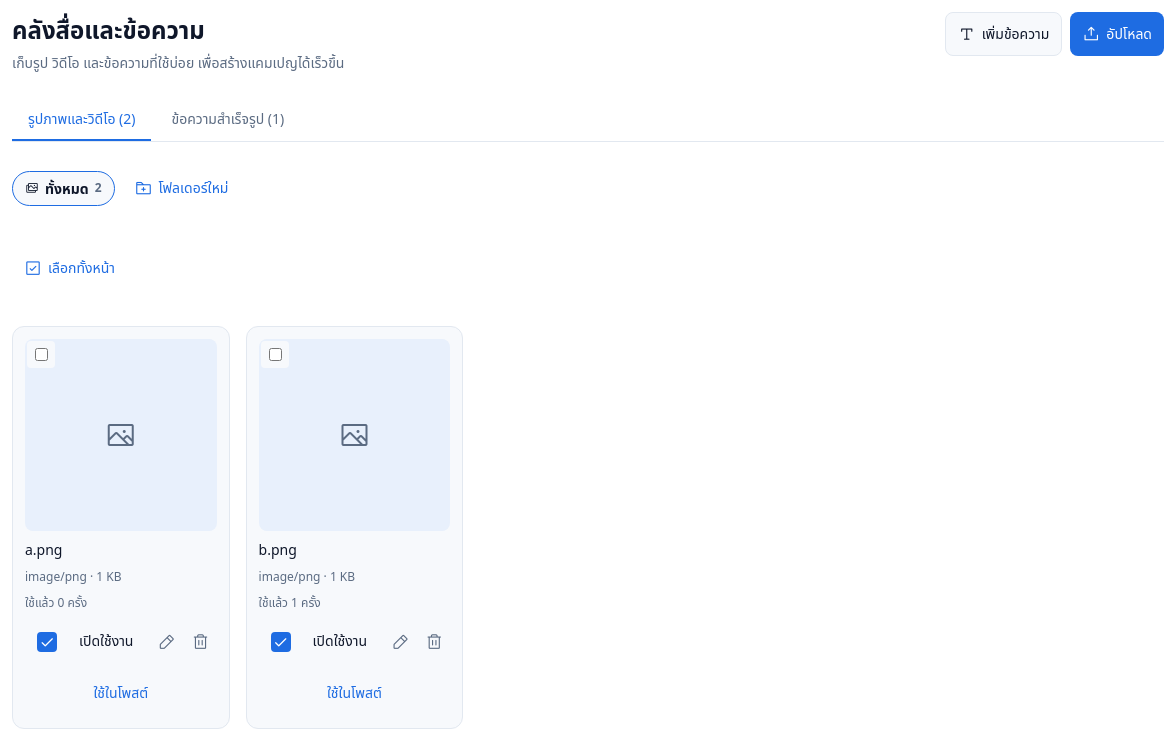
Test: LibraryPageComponent and the draft of a new post › rename, switch on/off and delete › switches a file off: the card dims and "use" is off until it is switched on again
The width and height of the screenshot is (1176, 732).
Step 1. Click the checkbox labelled "เปิดใช้งาน" below "ใช้แล้ว 0 ครั้ง" → (47, 642), box left=25, top=620, right=69, bottom=664
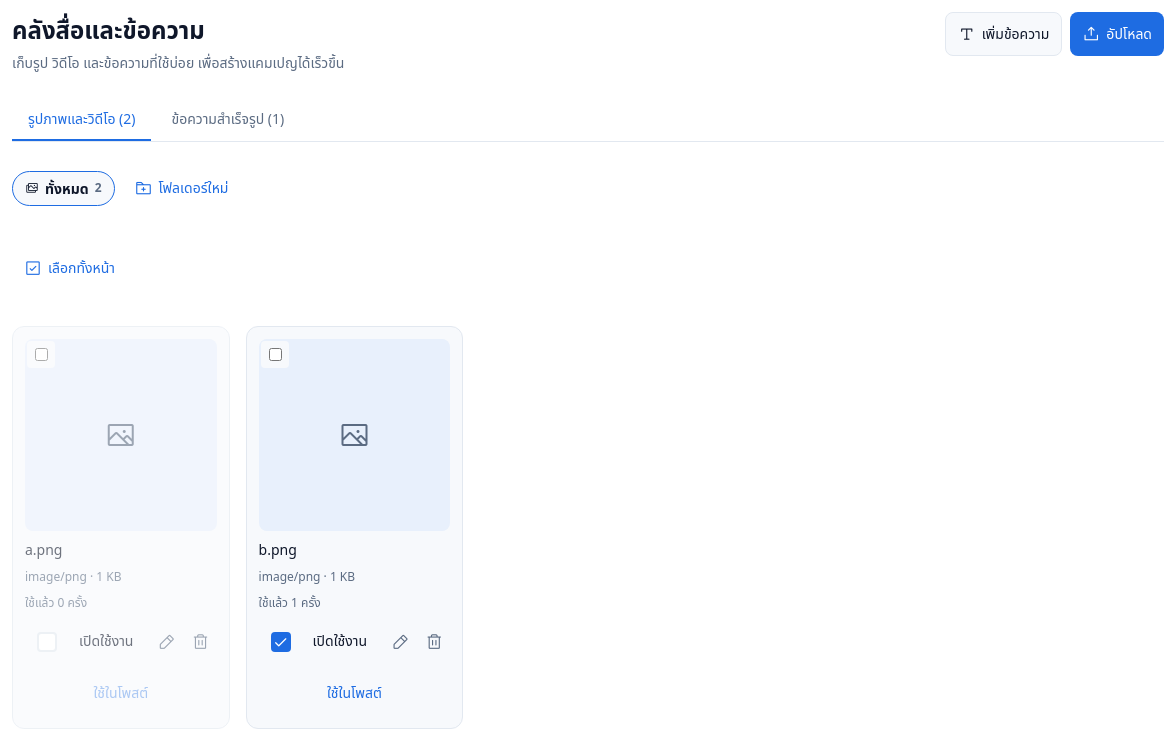
Expected: the button with class "su-btn-ghost" below "ใช้แล้ว 1 ครั้ง" is enabled, left=259, top=672, right=450, bottom=716
Expected: the button with class "su-btn-ghost" below "ใช้แล้ว 0 ครั้ง" is disabled, left=25, top=672, right=217, bottom=716
